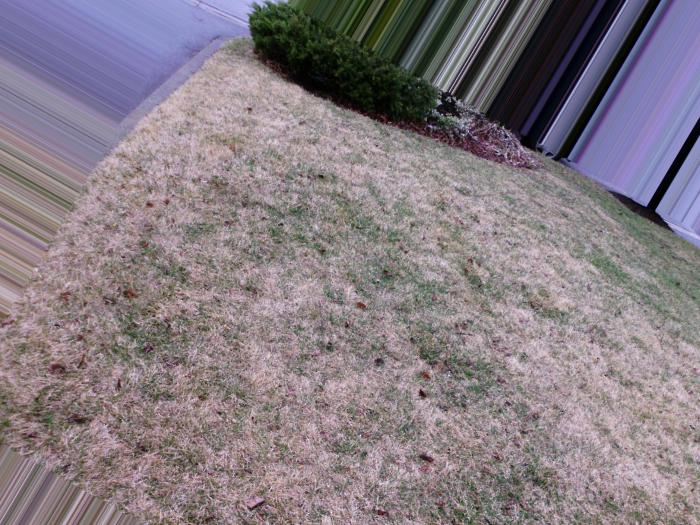patch: (194, 306, 421, 481), (335, 147, 617, 284), (520, 307, 683, 478), (212, 64, 305, 149)
